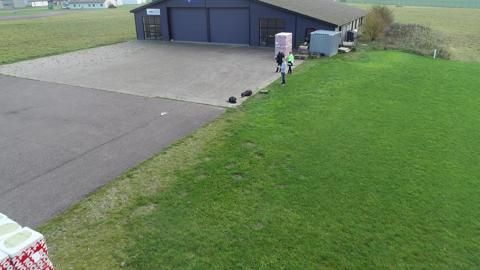RockwoolPallet: (274, 31, 294, 60)
